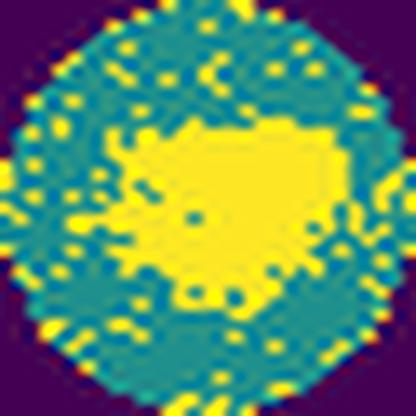Center: (66, 119, 354, 318)
